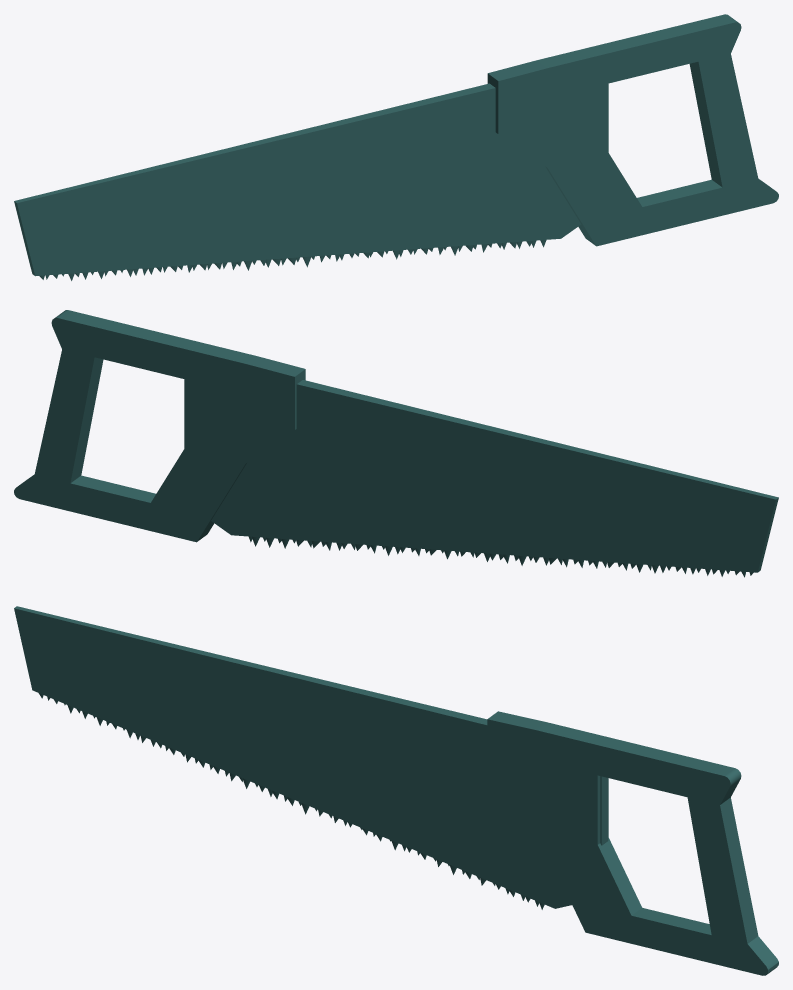
Rendered from saw low.fbx.
3 views of the same model, one above another, from view 1: azimuth 30°, elevation 25°; view 2: azimuth 150°, elevation 25°; view 3: azimuth 330°, elevation 25° (orthographic).
Visible parts, largest first — view 1: saw_02_low, saw_01_low, saw_03_low; view 2: saw_02_low, saw_01_low, saw_03_low; view 3: saw_02_low, saw_01_low, saw_03_low.
Part boxes in pixels (<box>): saw_02_low: <box>14,83,581,276</box>; saw_01_low: <box>487,14,778,246</box>; saw_03_low: <box>39,240,546,280</box>; saw_02_low: <box>211,380,778,572</box>; saw_01_low: <box>14,310,305,542</box>; saw_03_low: <box>249,536,753,577</box>; saw_02_low: <box>14,606,608,908</box>; saw_01_low: <box>487,711,778,975</box>; saw_03_low: <box>38,693,544,909</box>.
Bounding box in the file's own units: 87.43 × 20.97 × 2.16.
